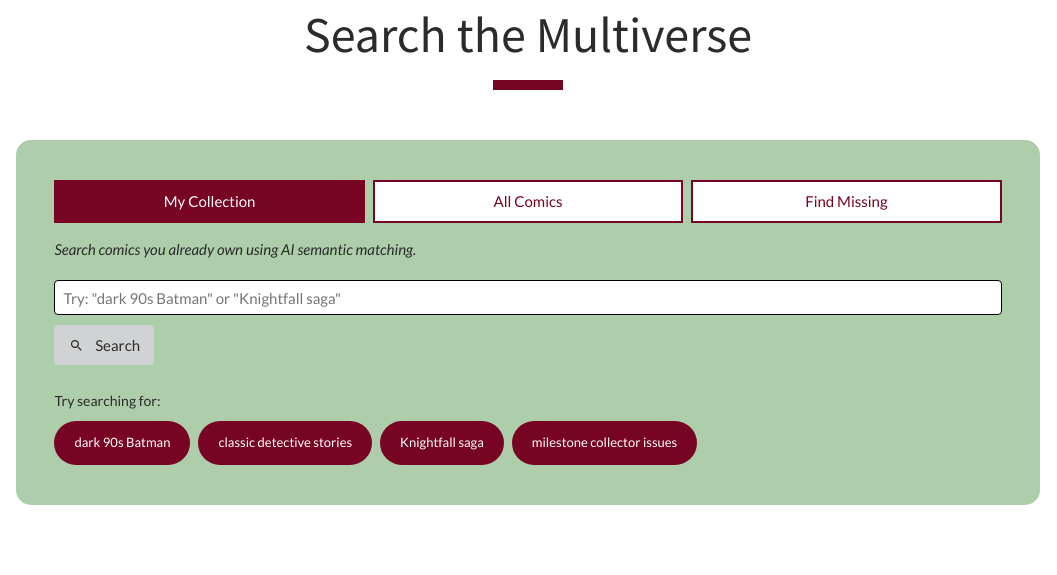
Test case: Search page while a search runs › explains a slow Claude search after 8 seconds
Click the button "All Comics" at (528, 201), box [373,180,683,222]
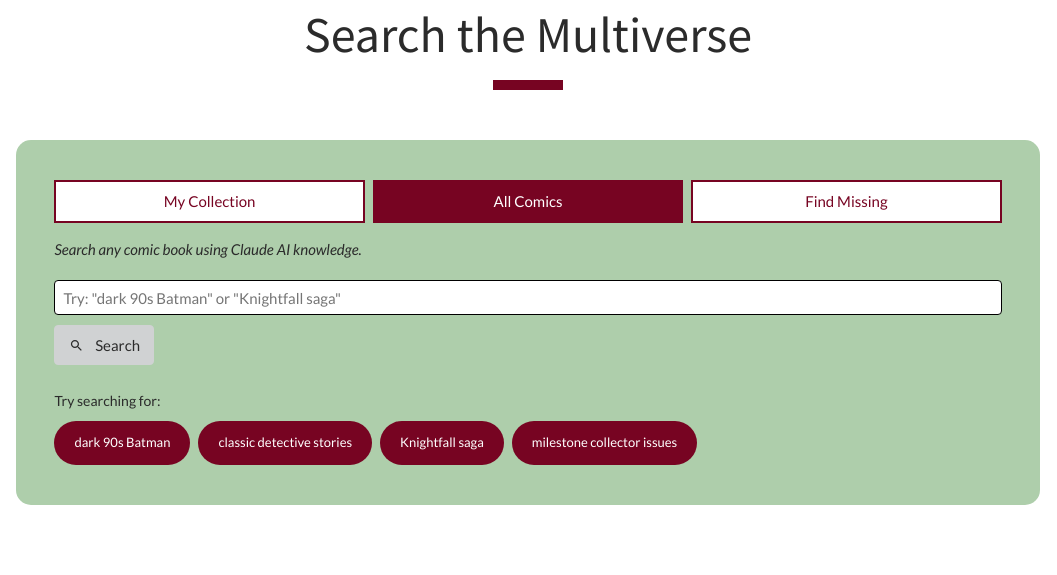
Type "Knightfall saga" into the field named "Search comics" at (528, 298), box [54,280,1002,315]
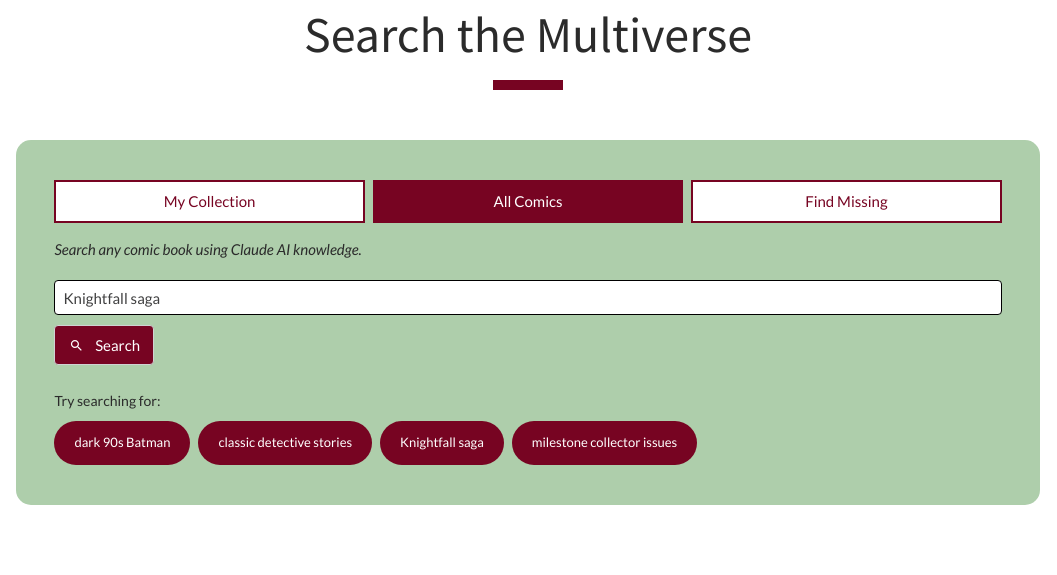
Click the button "Search" at (104, 345), box [54,325,154,365]
Wait 8000 ms
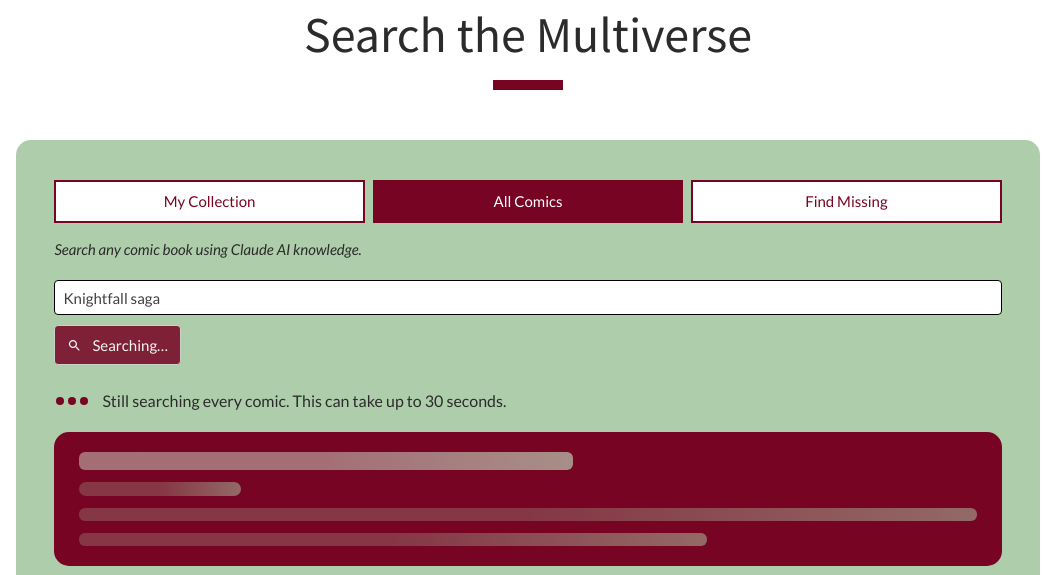
Check: the number of elements with test id "result-skeleton" is 6
Check: the message shows "can take up to 30 seconds", box [102,391,506,410]
